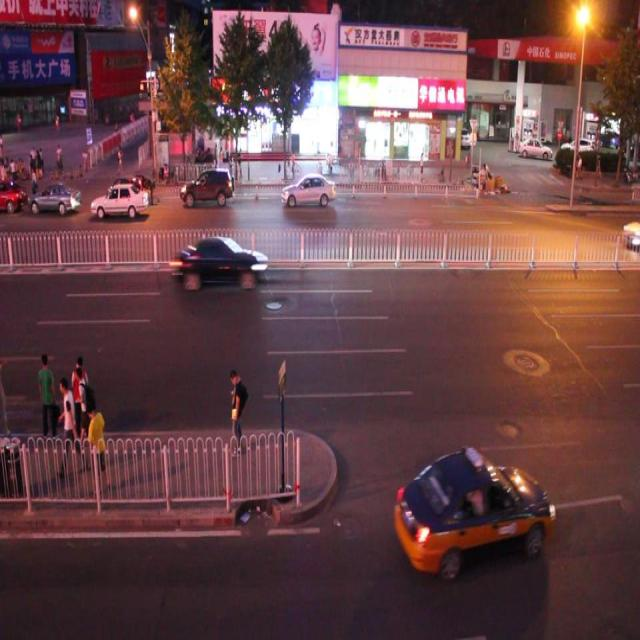car: (392, 440, 552, 576), (170, 231, 267, 290), (177, 163, 233, 207), (280, 167, 336, 210), (90, 180, 148, 218), (29, 176, 81, 217), (101, 180, 145, 223)
